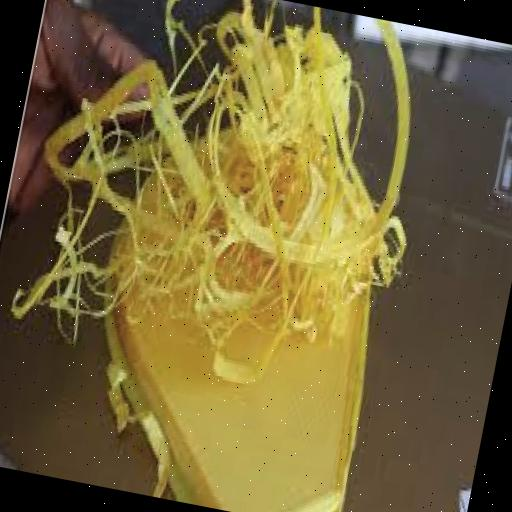spaghetti: (56, 0, 451, 398)
